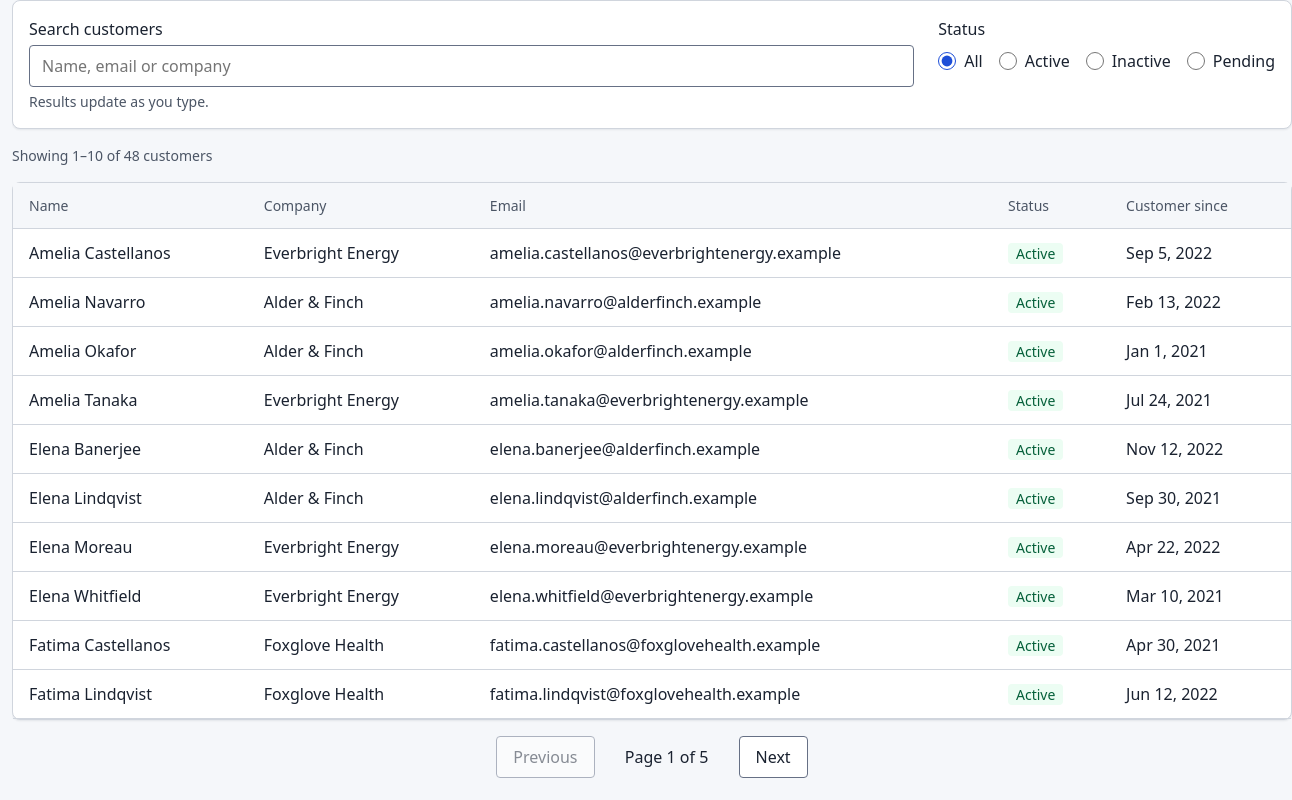
Scenario: CustomerDashboard: pagination › returns to page 1 when the status filter changes, without requesting the old page
Click the button with aria-label "Next page" at (773, 757), box x1=738 y1=736 x2=808 y2=778
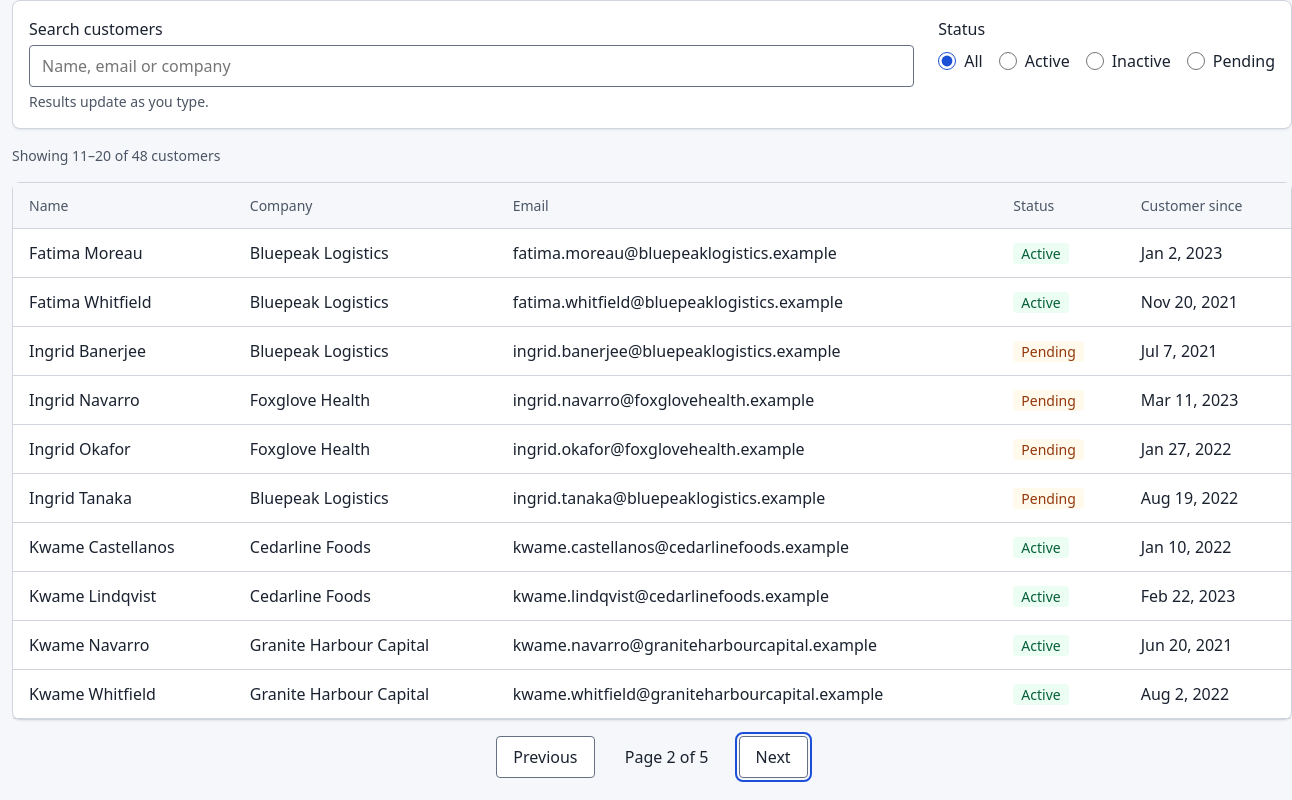
Check: the text "Page 2 of 5" is shown, box x1=625 y1=746 x2=708 y2=768
Click the radio button labelled "Pending" at (1196, 61), box x1=1187 y1=52 x2=1205 y2=70
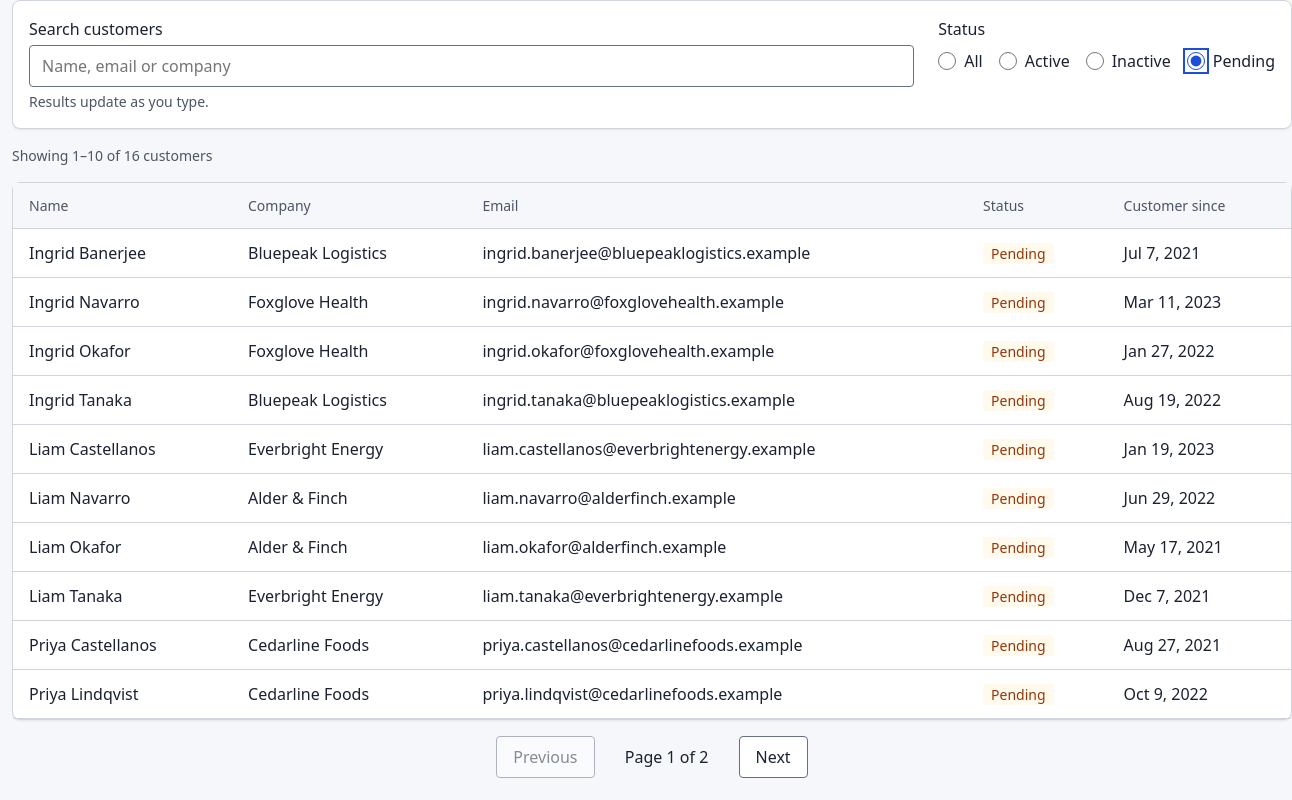
Check: the text "Page 1 of 2" is shown, box x1=625 y1=746 x2=708 y2=768
